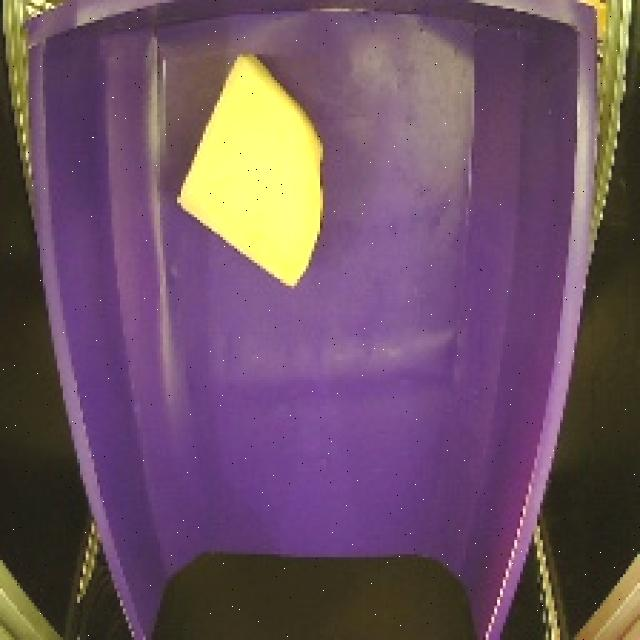potato: (172, 42, 332, 298)
